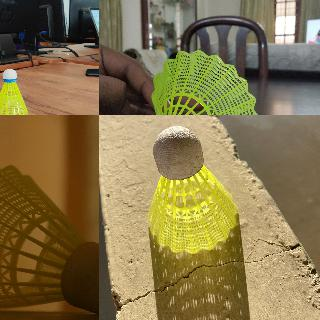shuttlecock: (0, 163, 98, 315), (148, 125, 236, 252), (151, 50, 259, 114), (0, 68, 29, 114)
